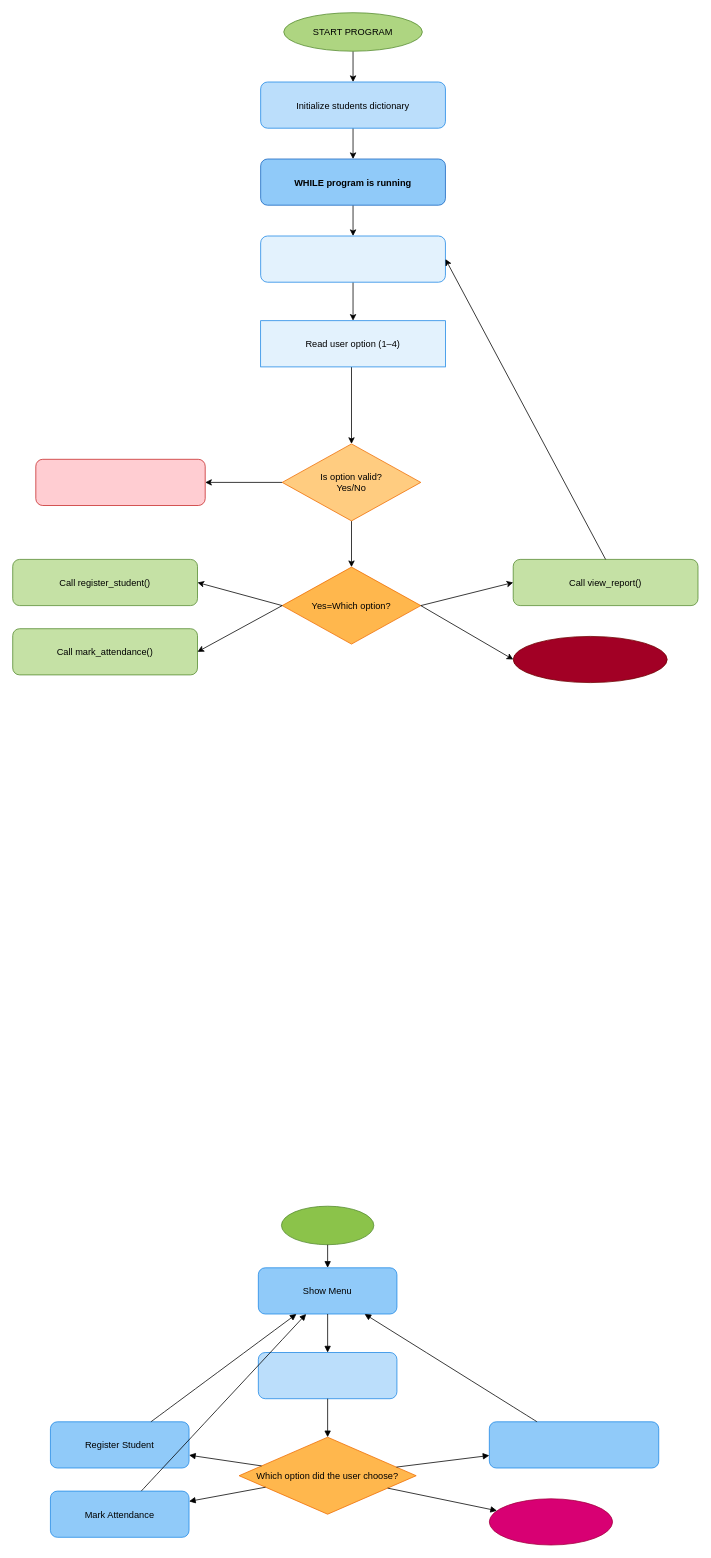
The diagram is 711 pixels wide and 1558 high, and some of its shapes have lost their labels. The shapes that lost their labels are listed below. From the top down, each one's box as (x1, y1, x2, y2) in pixels, then its label:
(260, 235, 445, 282): Show menu options
(35, 459, 205, 506): No= "Show error message."
(512, 636, 667, 683): Break loop (Exit)
(281, 1205, 374, 1245): START
(258, 1352, 397, 1399): Read Option (1-4)
(489, 1421, 659, 1468): View Attendance Report
(489, 1498, 613, 1545): Exit Program
